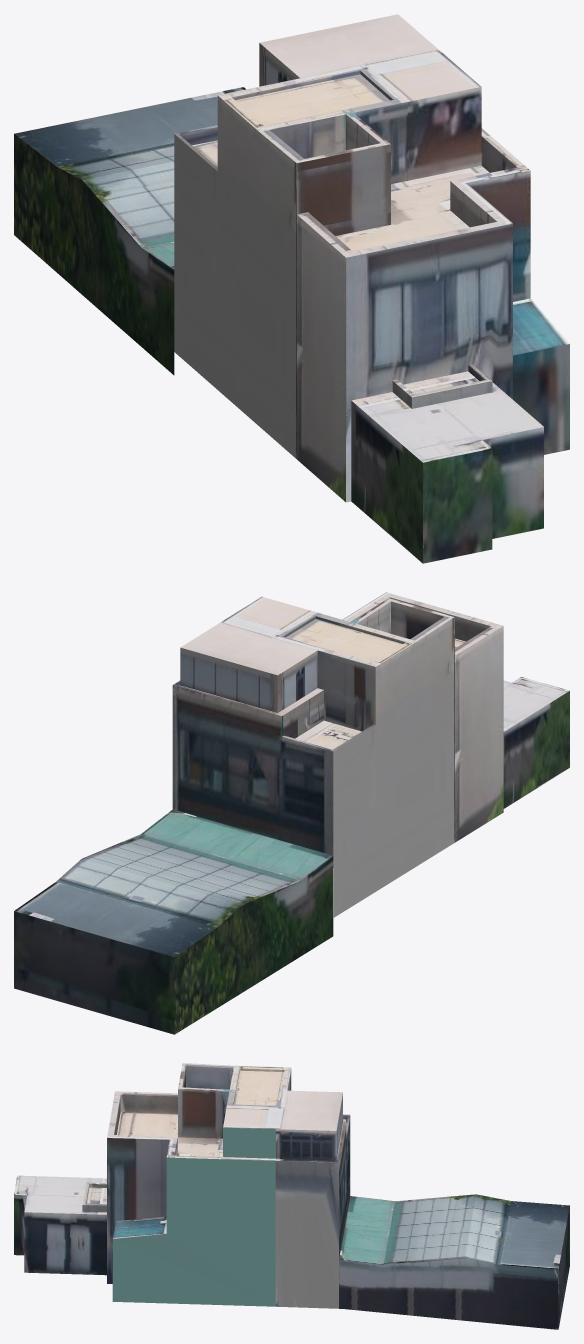
The picture shows the model from 3 angles, top to bottom: view 1: azimuth 30°, elevation 25°; view 2: azimuth 150°, elevation 25°; view 3: azimuth 270°, elevation 25°; orthographic projection. The views are drawn at different scales.
Visible parts, largest first — view 1: B283064038601062A0; view 2: B283064038601062A0; view 3: B283064038601062A0.
Boxes of the visible parts, left/top/right/bottom form: B283064038601062A0: left=14, top=14, right=569, bottom=563; B283064038601062A0: left=14, top=592, right=569, bottom=1034; B283064038601062A0: left=14, top=1063, right=569, bottom=1329.
Size of the model in its own units: 10.63 by 11.84 by 31.28.
Materials: 1 (1 with a texture image).
